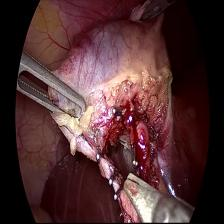Grasper: (15, 50, 86, 125)
Scissors: (123, 170, 190, 224)
